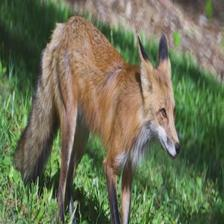fox: (16, 11, 187, 224)
